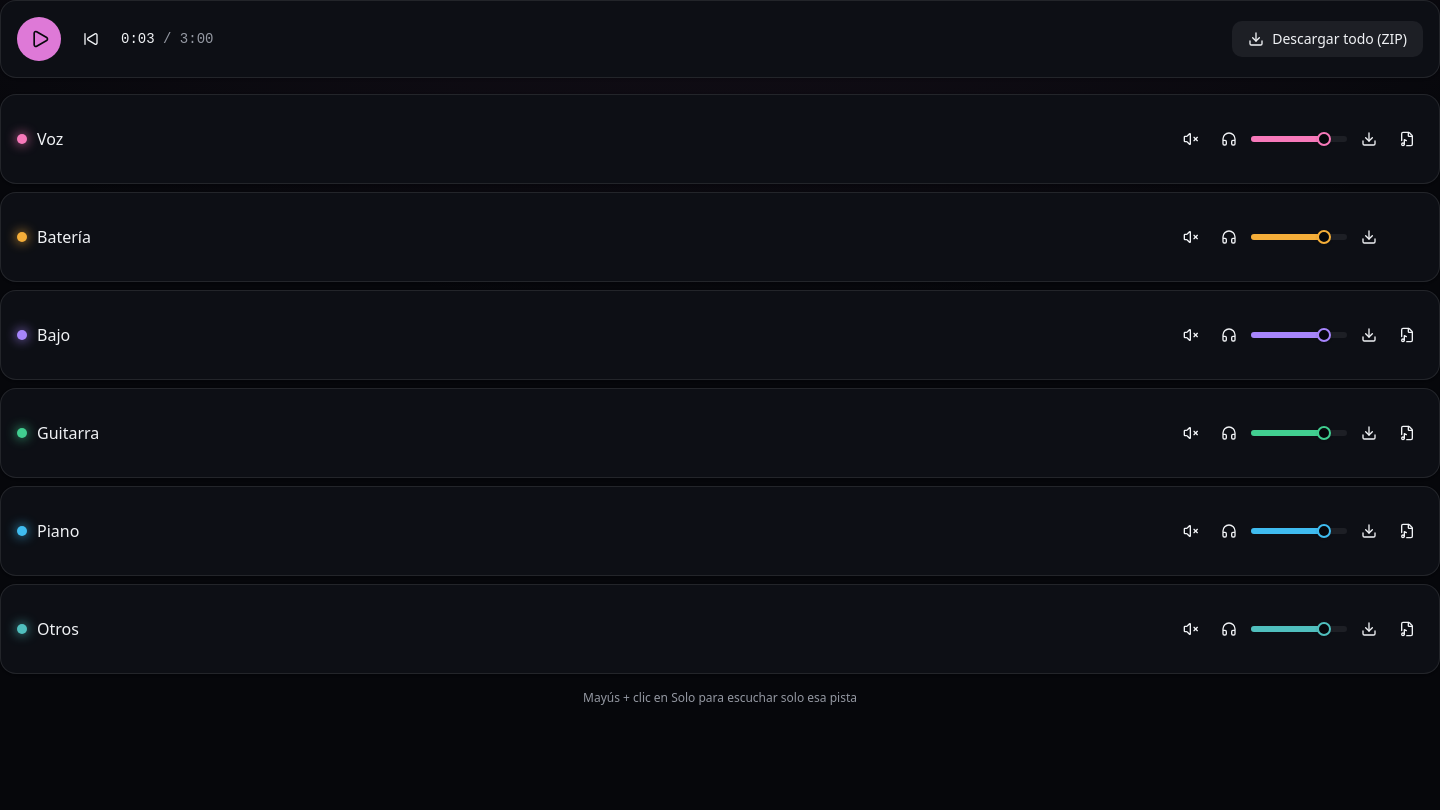
Test: Mixer › loads the stems and plays them once ready
Click the button named "Reproducir". click: (39, 39)
box: [17,17,61,61]
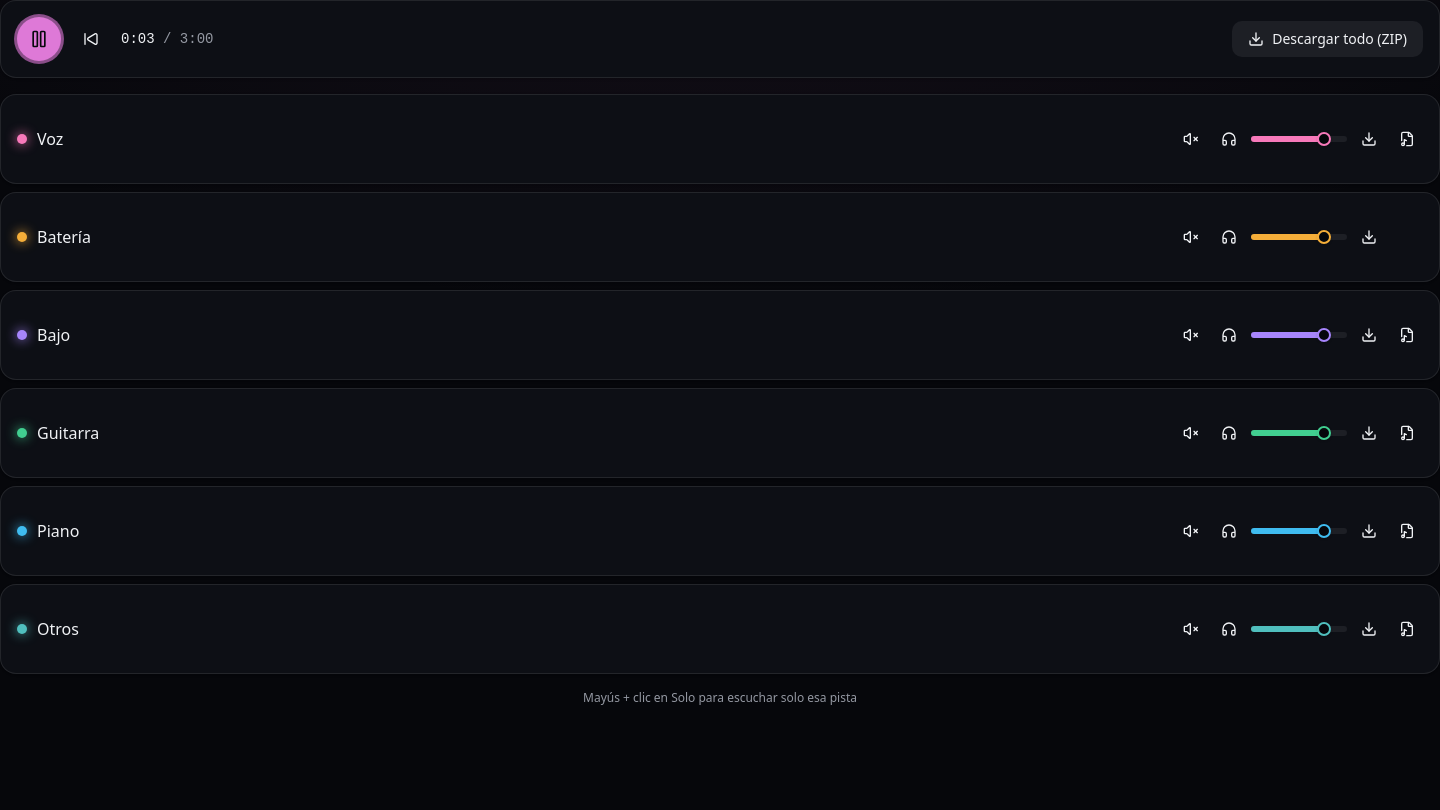
Expected: the text "0:03" is shown, [121,31,155,47]
Now the button named "Pausa" is shown, box [17,17,61,61]
